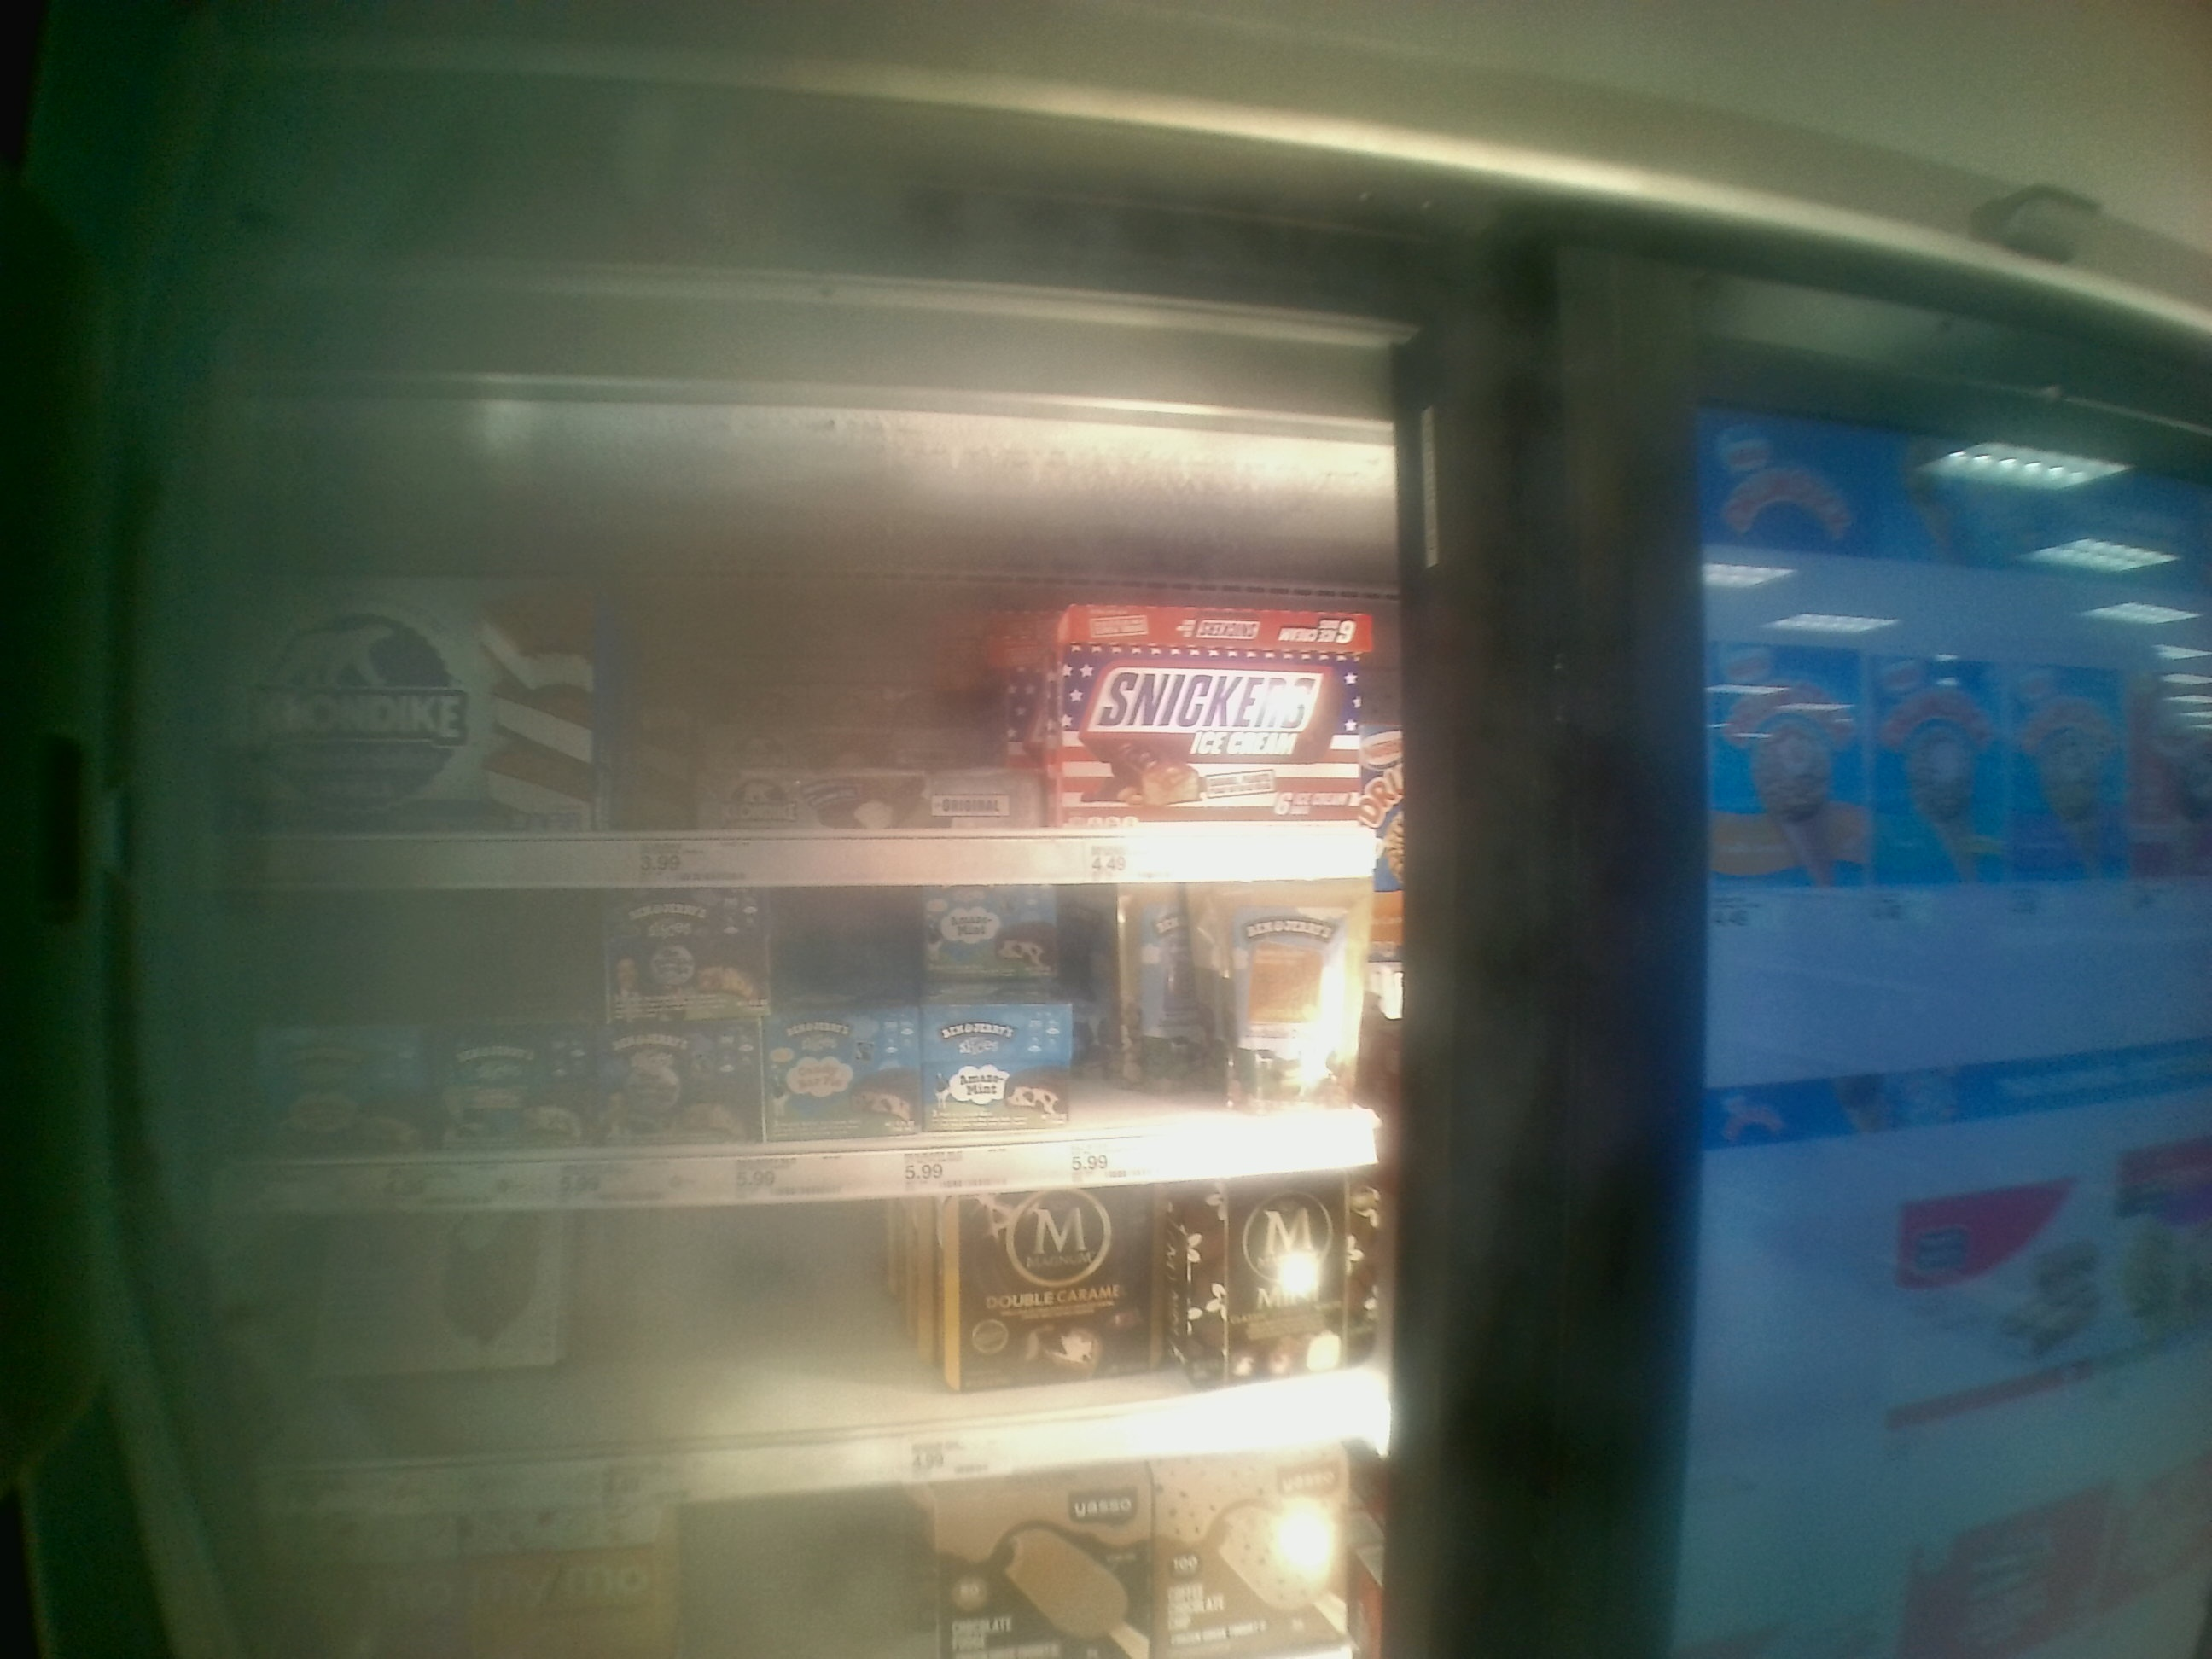ice-cream-shelf: (209, 369, 1411, 882), (206, 887, 1416, 1208), (209, 1215, 1420, 1516)
